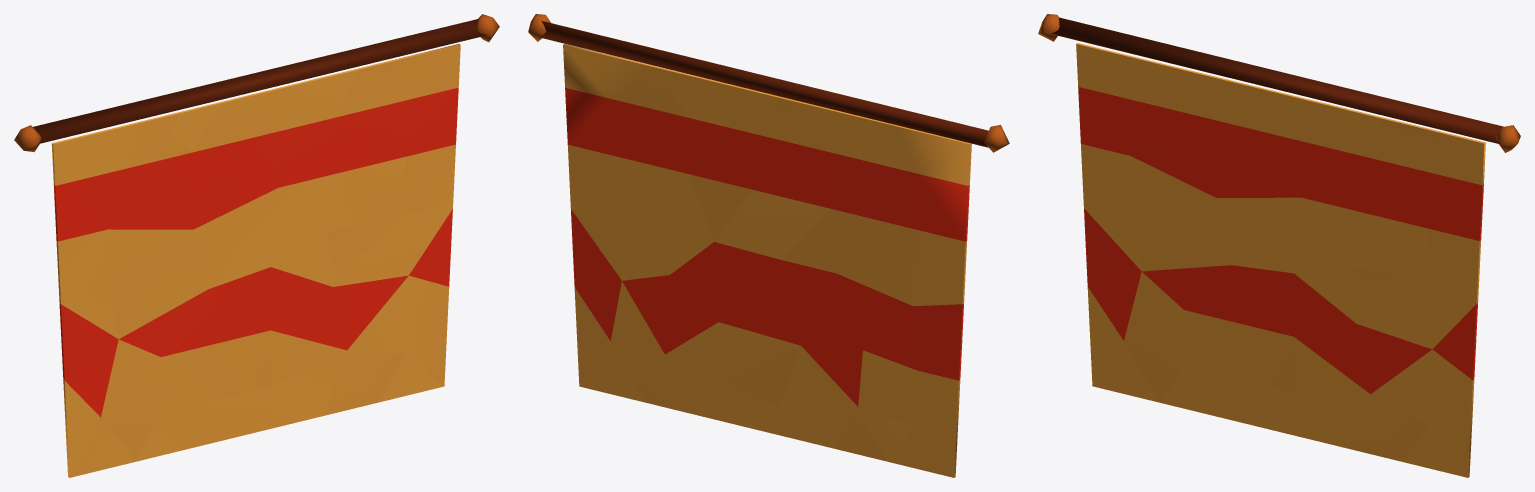
Rendered from tb_sail_sunset.three-web-toon.lod25.glb.
3 views of the same model, side by side, from view 1: azimuth 30°, elevation 25°; view 2: azimuth 150°, elevation 25°; view 3: azimuth 330°, elevation 25° (orthographic).
Visible parts, largest first — view 1: sail_cloth_lod, sail_yard_lod; view 2: sail_cloth_lod, sail_yard_lod; view 3: sail_cloth_lod, sail_yard_lod.
Part boxes in pixels (left/top/right/bottom): sail_cloth_lod: left=51, top=44, right=460, bottom=477; sail_yard_lod: left=14, top=14, right=499, bottom=152; sail_cloth_lod: left=563, top=44, right=971, bottom=477; sail_yard_lod: left=528, top=14, right=1009, bottom=152; sail_cloth_lod: left=1076, top=43, right=1485, bottom=477; sail_yard_lod: left=1038, top=14, right=1520, bottom=152.
Bounding box in the file's own units: 2.83 × 2.03 × 0.1462.
